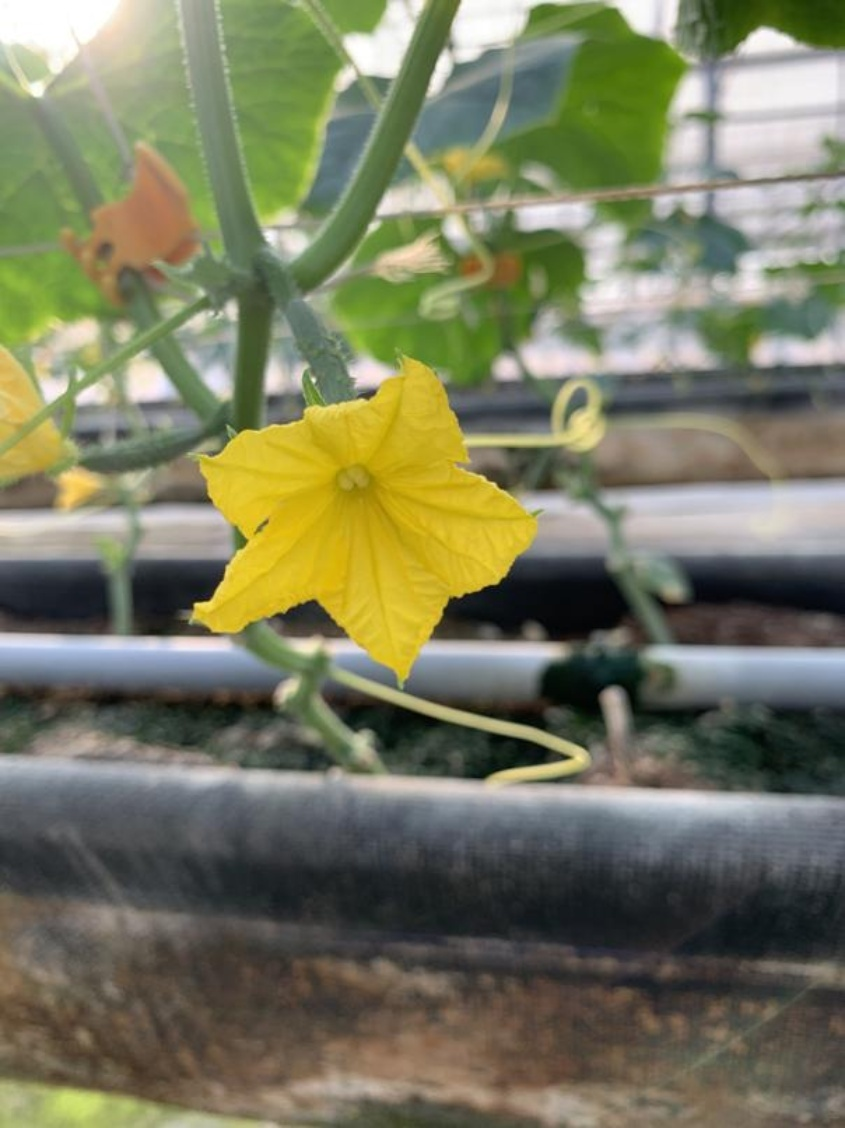flowering: (155, 276, 551, 693)
mature: (157, 275, 547, 693)
